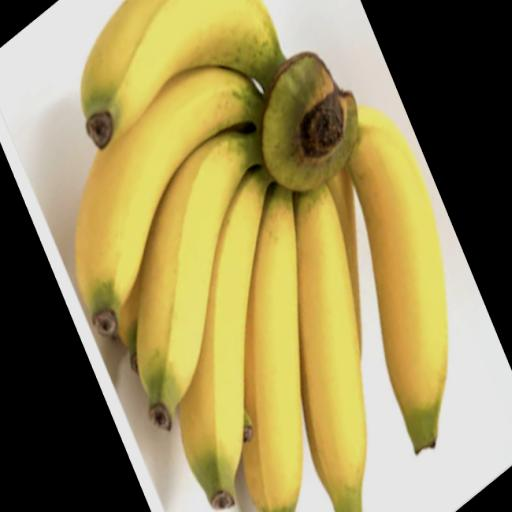banana-ripe: (45, 3, 472, 512)
